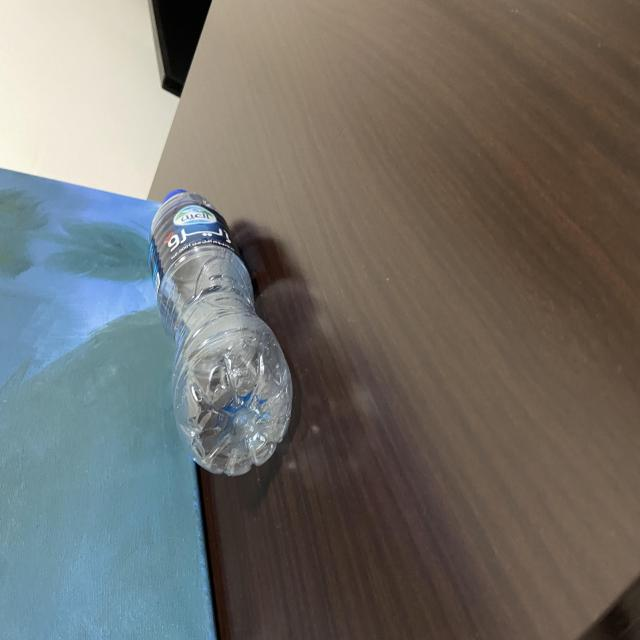bottle: (134, 187, 306, 493)
